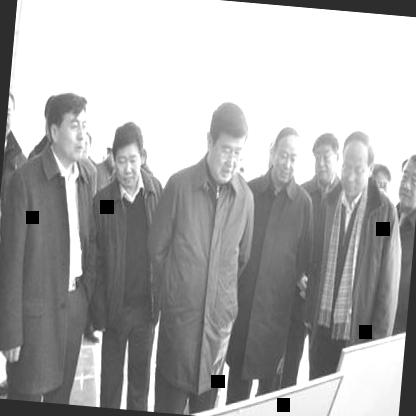head: (200, 93, 254, 188), (40, 86, 92, 164), (106, 115, 150, 194), (336, 126, 376, 200), (266, 120, 307, 188), (308, 126, 344, 188), (396, 147, 416, 211), (368, 161, 396, 202)
